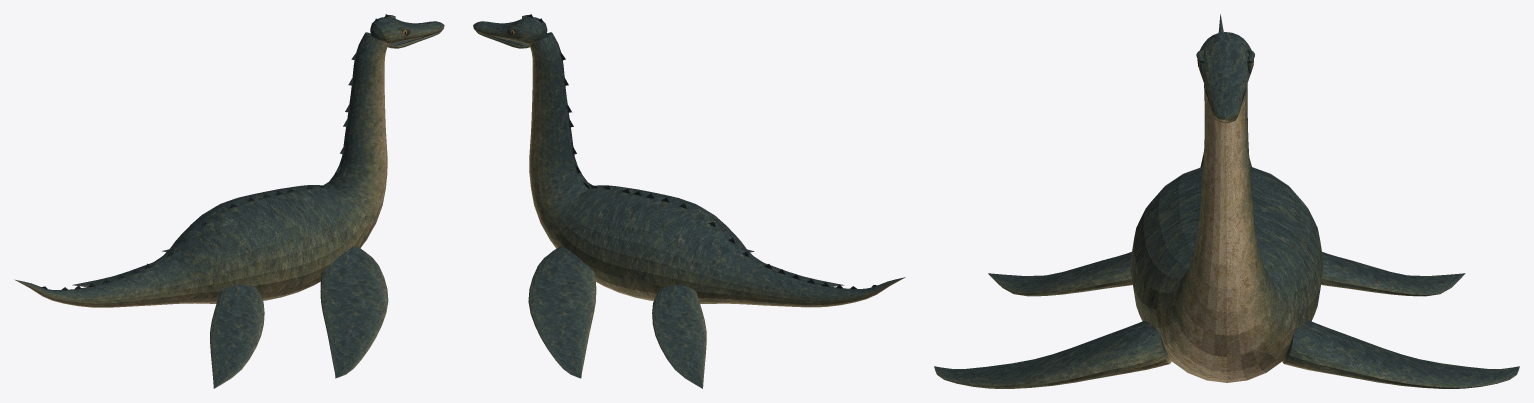
File: nahuelito.obj
The picture shows the model from 3 angles, left to right: view 1: azimuth 30°, elevation 25°; view 2: azimuth 150°, elevation 25°; view 3: azimuth 270°, elevation 25°; orthographic projection. The views are drawn at different scales.
Visible parts, largest first — view 1: body, front_flipper-1, rear_flipper-1, head; view 2: body, front_flipper1, rear_flipper1, head; view 3: body, front_flipper-1, front_flipper1, head, rear_flipper-1, rear_flipper1.
Part boxes in pixels (left/top/right/bottom): body: left=14, top=32, right=387, bottom=307; front_flipper-1: left=320, top=246, right=388, bottom=378; rear_flipper-1: left=210, top=285, right=264, bottom=388; head: left=370, top=14, right=444, bottom=45; body: left=529, top=32, right=905, bottom=307; front_flipper1: left=528, top=246, right=596, bottom=378; rear_flipper1: left=652, top=285, right=706, bottom=388; head: left=473, top=14, right=547, bottom=45; body: left=1130, top=14, right=1323, bottom=382; front_flipper-1: left=934, top=320, right=1171, bottom=388; front_flipper1: left=1282, top=321, right=1519, bottom=388; head: left=1196, top=32, right=1254, bottom=121; rear_flipper-1: left=988, top=252, right=1132, bottom=296; rear_flipper1: left=1321, top=252, right=1465, bottom=296.
Bounding box in the file's own units: 384 × 228 × 268.
Materials: 3 (3 with a texture image).
